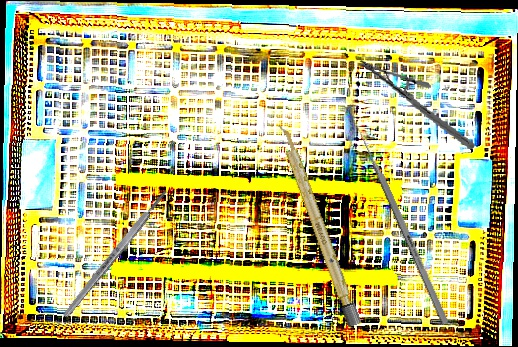Needle Holder: (348, 59, 485, 150)
Pusher: (351, 118, 450, 326)
Scalpel Handle: (275, 122, 362, 328), (60, 187, 171, 320)
